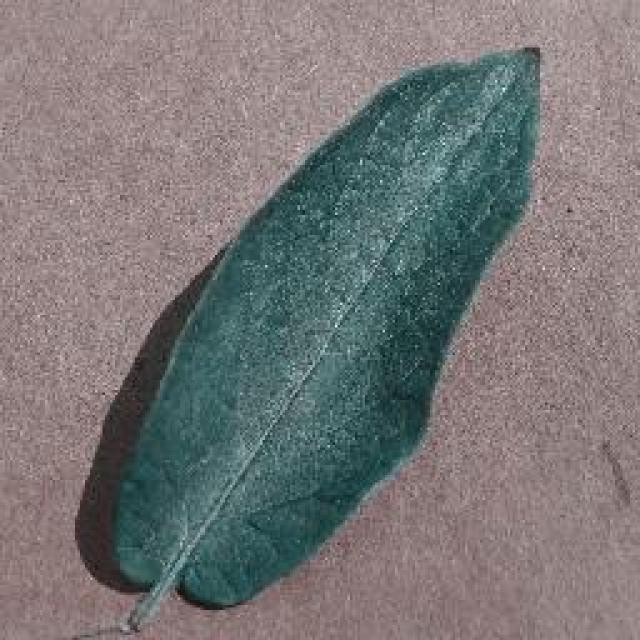Potato___healthy: (63, 47, 541, 638)
